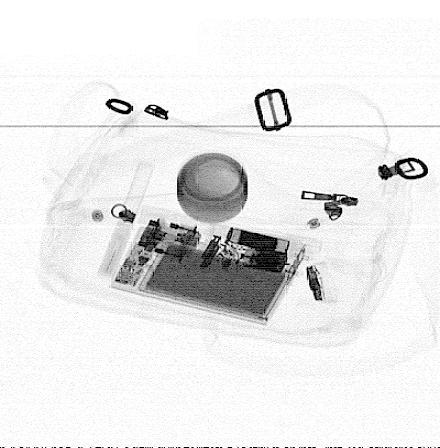Powerbank: (107, 224, 295, 326)
